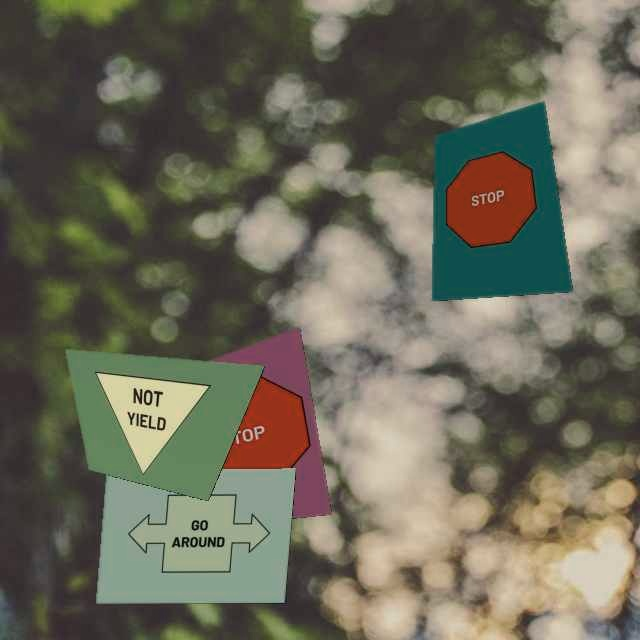GO_AROUND: (125, 494, 273, 573)
NOT_YIELD: (90, 372, 211, 487)
STOP: (178, 361, 320, 514), (446, 144, 540, 251)
